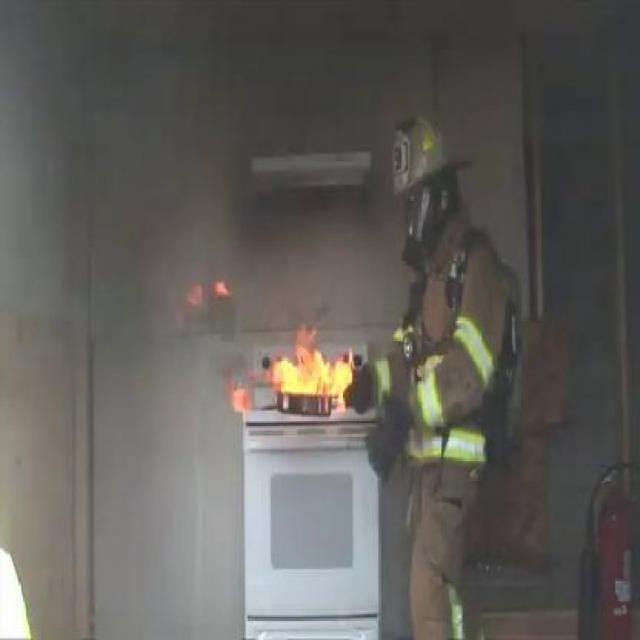fire: (268, 338, 356, 400)
